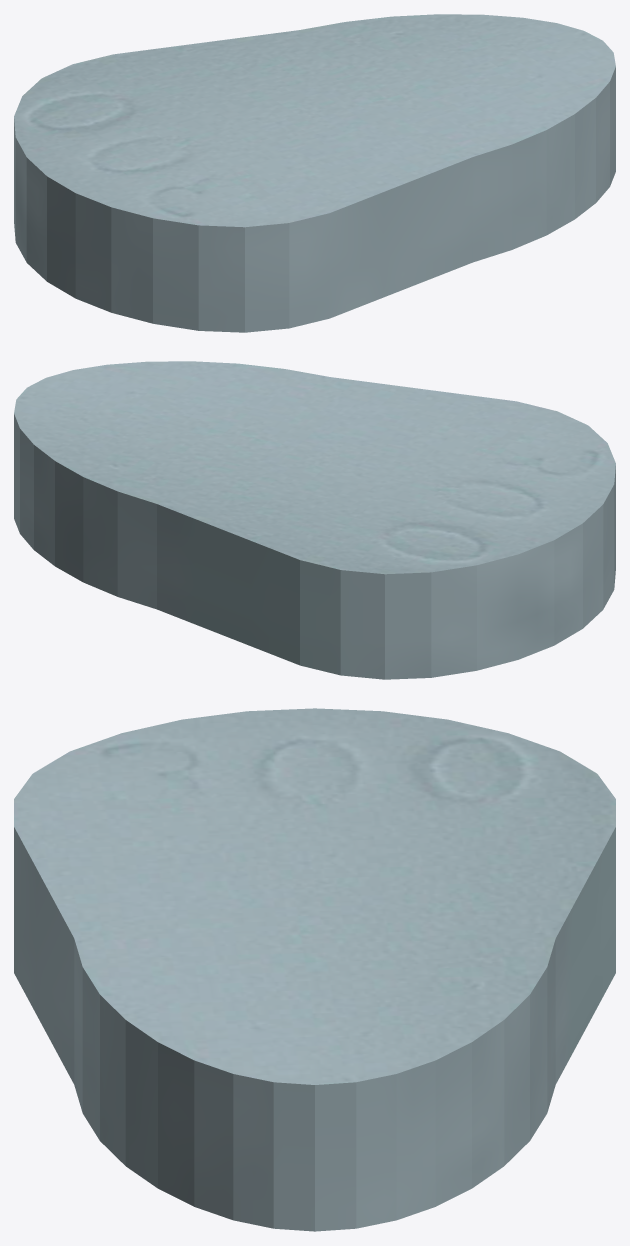
3 renders of one model, top to bottom at view 1: azimuth 30°, elevation 25°; view 2: azimuth 150°, elevation 25°; view 3: azimuth 270°, elevation 25°, orthographic. The views are drawn at different scales.
Parts seen in each view (by area): view 1: 圓柱體; view 2: 圓柱體; view 3: 圓柱體.
Part boxes in pixels (x1,y1,x2,y2): 圓柱體: (14,14,615,332); 圓柱體: (14,361,615,679); 圓柱體: (14,708,615,1231).
Size of the model in its own units: 14.76 by 2.68 by 9.97.
